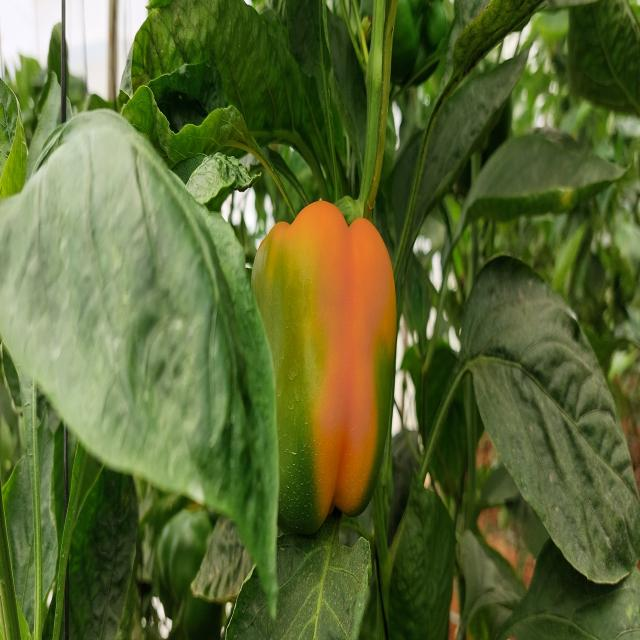GreenishYellow--Can-be-Harvested: (245, 187, 403, 545)
